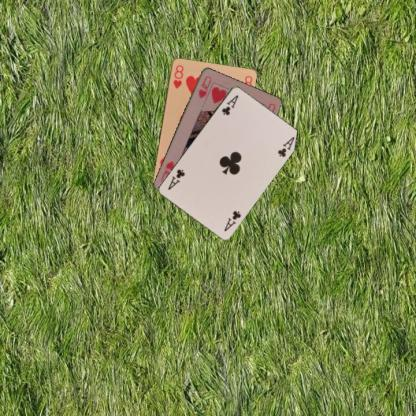8h: (170, 62, 184, 90)
Ac: (219, 92, 240, 117), (221, 208, 242, 232)
Qh: (196, 72, 212, 100)
